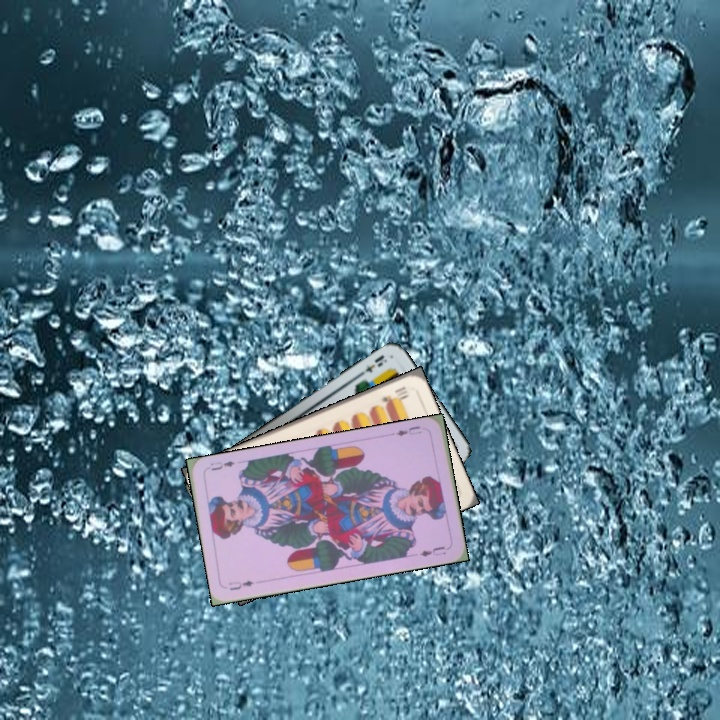E10: (377, 382, 410, 406)
EK: (354, 351, 390, 380)
EU: (392, 422, 424, 439), (225, 576, 256, 593)
